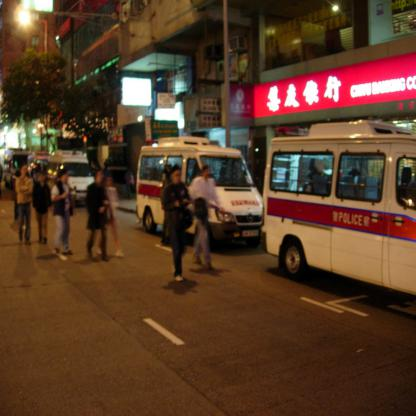Ambulance: (135, 137, 264, 256)
